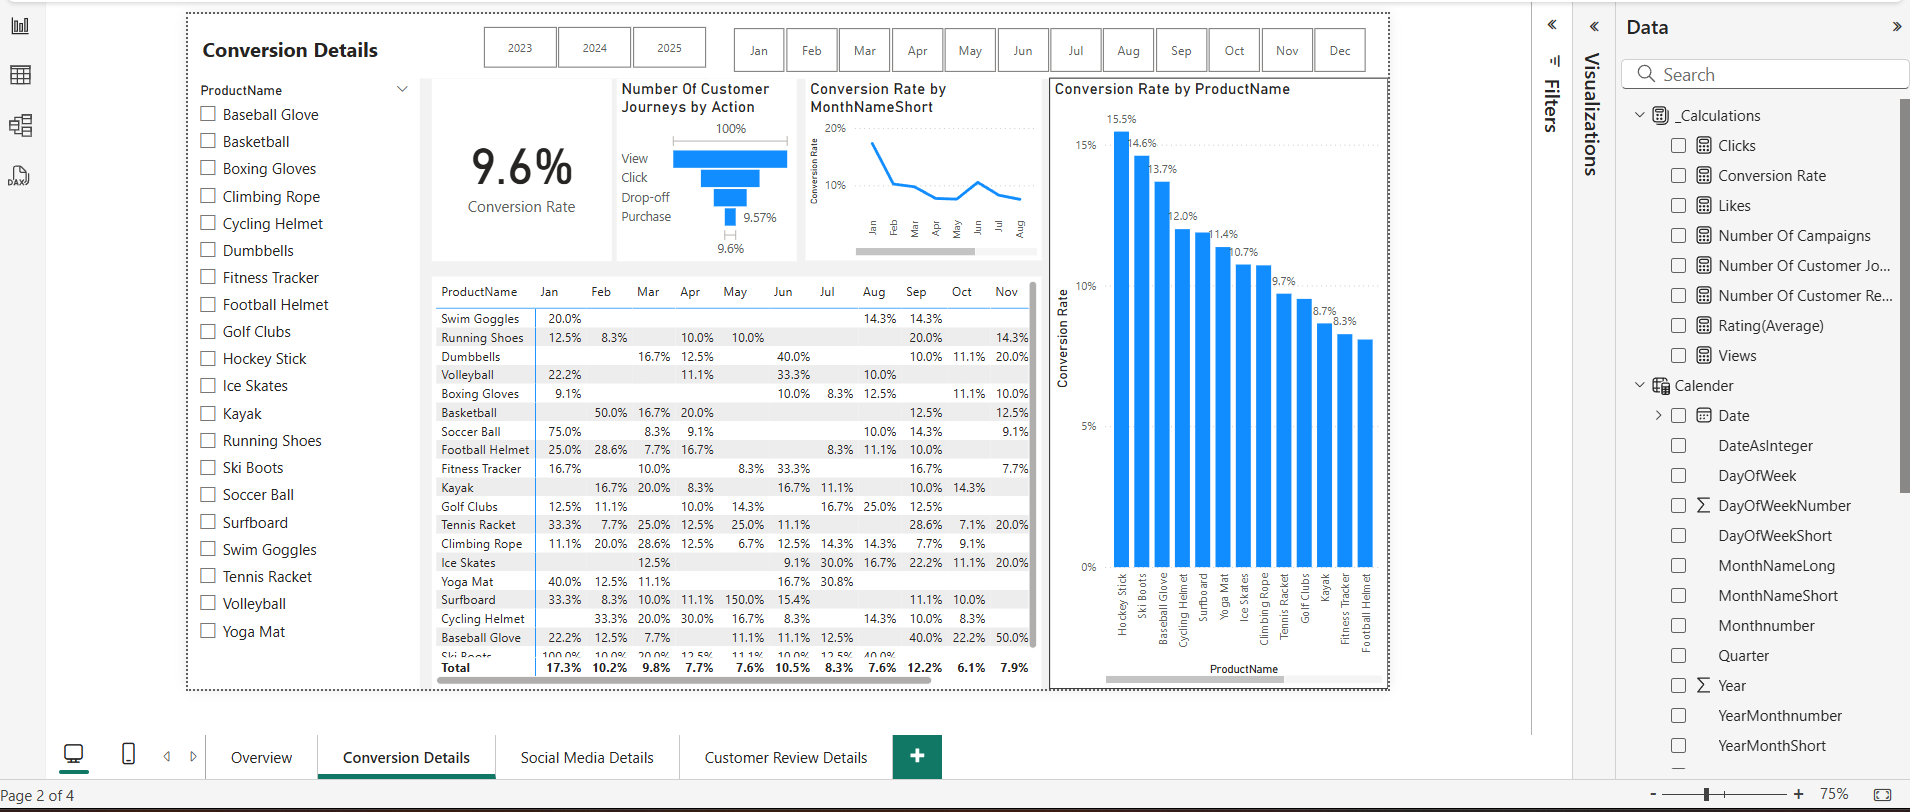

What the dashboard file says about the page in this screenshot:
{"tool":"powerbi","page":{"name":"Conversion Details","canvas":[1280,720],"ordinal":1},"visuals":[{"type":"textbox","box":[0,0,1280.3,68.6],"z":0},{"type":"slicer","fields":{"Values":["dim_products.ProductName"]},"box":[0,68.4,247.5,651.8],"z":1000},{"type":"card","fields":{"Values":["_Calculations.Conversion Rate"]},"box":[260,69.3,192,194.7],"z":2000},{"type":"slicer","fields":{"Values":["Calender.Year"]},"box":[289.8,6.2,287.4,57.2],"z":3000},{"type":"slicer","fields":{"Values":["Calender.MonthNameShort"]},"box":[556,7.5,724,61],"z":4000},{"type":"lineChart","fields":{"Y":["_Calculations.Conversion Rate"],"Category":["Calender.MonthNameShort"]},"box":[658.7,69.3,252,193.3],"z":5000},{"type":"clusteredColumnChart","fields":{"Y":["_Calculations.Conversion Rate"],"Category":["dim_products.ProductName"]},"box":[918.7,68,361.3,652],"z":6000},{"type":"pivotTable","fields":{"Values":["_Calculations.Conversion Rate"],"Rows":["dim_products.ProductName"],"Columns":["Calender.MonthNameShort"]},"box":[260,280,650.7,440],"z":7000},{"type":"funnel","fields":{"Y":["_Calculations.Number Of Customer Journeys"],"Category":["fact_customer_journey.Action"]},"box":[457.3,69.3,192,194.7],"z":8000}]}

Visuals, with their boxes on the page's 1280x720 design canvas (x1, y1, x2, y2). These are canvas units, not pixel positions in the 1910x812 screenshot, which may show the page scaled, cropped or inside an application window:
textbox: <region>0, 0, 1280, 69</region>
slicer - dim_products.ProductName: <region>0, 68, 248, 720</region>
card - _Calculations.Conversion Rate: <region>260, 69, 452, 264</region>
slicer - Calender.Year: <region>290, 6, 577, 63</region>
slicer - Calender.MonthNameShort: <region>556, 8, 1280, 68</region>
lineChart - _Calculations.Conversion Rate x Calender.MonthNameShort: <region>659, 69, 911, 263</region>
clusteredColumnChart - _Calculations.Conversion Rate x dim_products.ProductName: <region>919, 68, 1280, 720</region>
pivotTable - _Calculations.Conversion Rate x dim_products.ProductName: <region>260, 280, 911, 720</region>
funnel - _Calculations.Number Of Customer Journeys x fact_customer_journey.Action: <region>457, 69, 649, 264</region>
